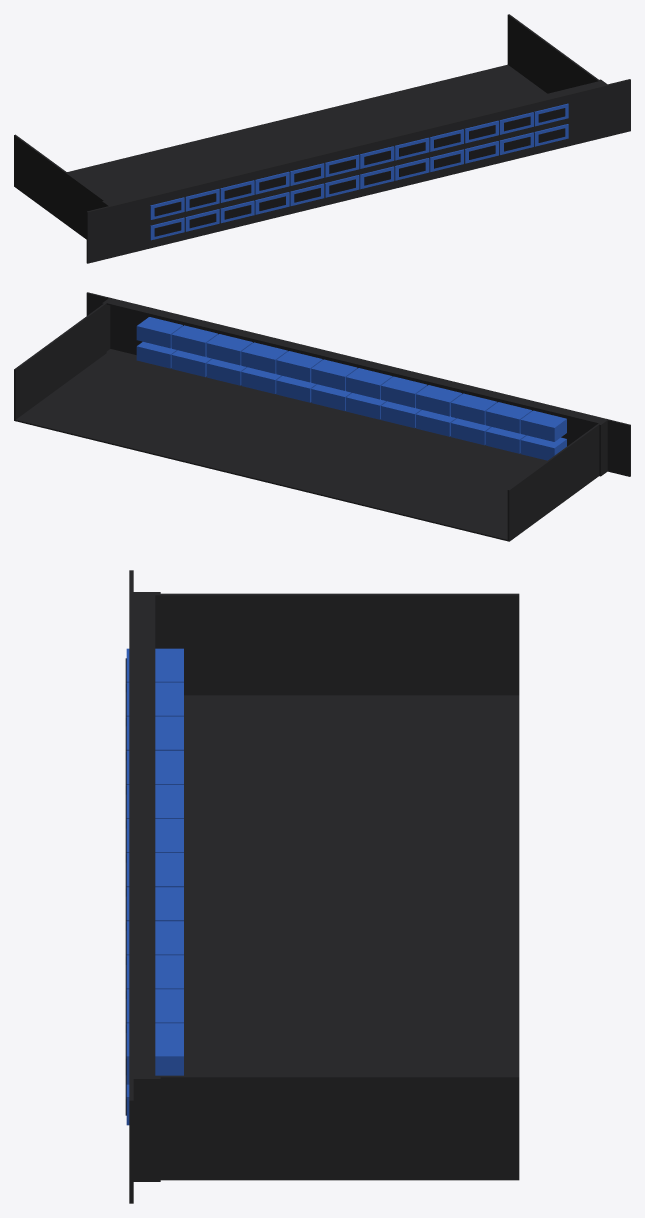
The model's file is FP-SC-24.far.glb.
3 renders of one model, top to bottom at view 1: azimuth 30°, elevation 25°; view 2: azimuth 150°, elevation 25°; view 3: azimuth 270°, elevation 25°, orthographic. The views are drawn at different scales.
Visible parts, largest first — view 1: FP-SC-24_Body_far; view 2: FP-SC-24_Body_far; view 3: FP-SC-24_Body_far.
Boxes of the visible parts, x1,y1,x2,y2 form: FP-SC-24_Body_far: (14,14,630,263); FP-SC-24_Body_far: (14,292,630,541); FP-SC-24_Body_far: (125,570,519,1203).
Size of the model in its own units: 0.4826 by 0.0437 by 0.1515.
1 material, 1 textured.
